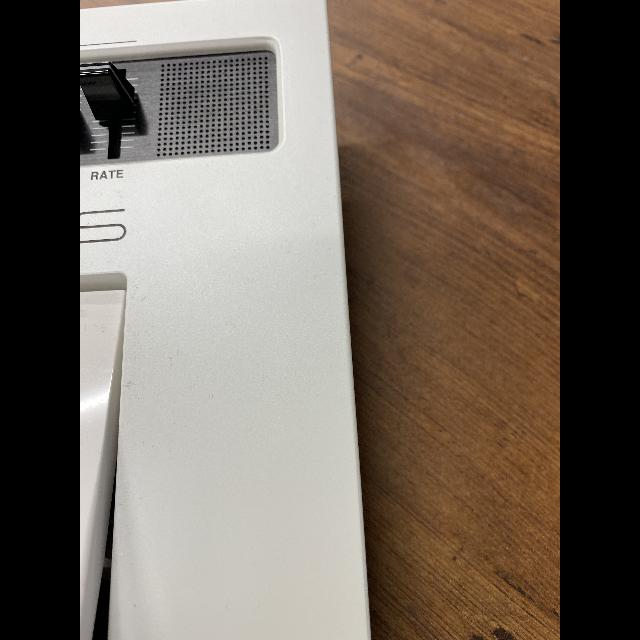Electronic-Keyboard: (80, 0, 372, 640)
